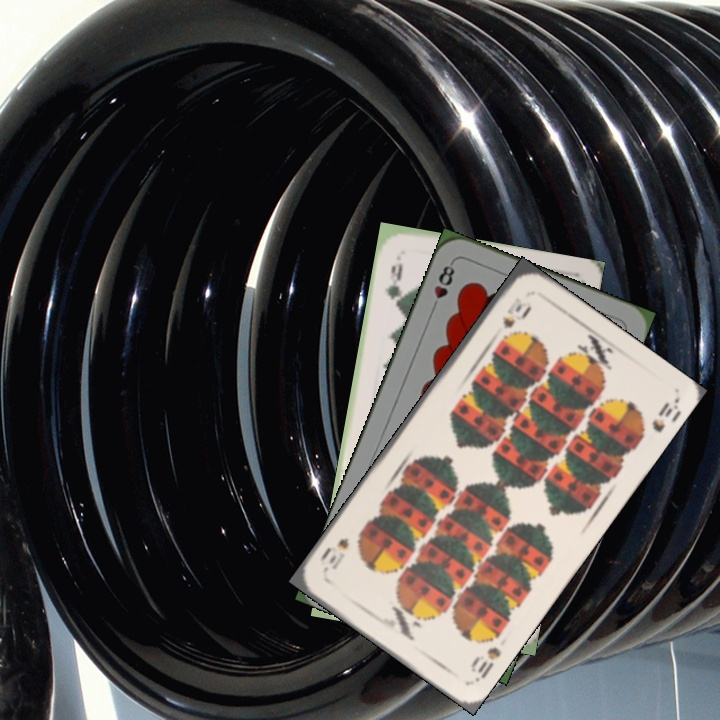G9: (382, 259, 405, 309)
H8: (427, 258, 458, 314)
S10: (466, 643, 504, 685), (497, 293, 525, 332)
